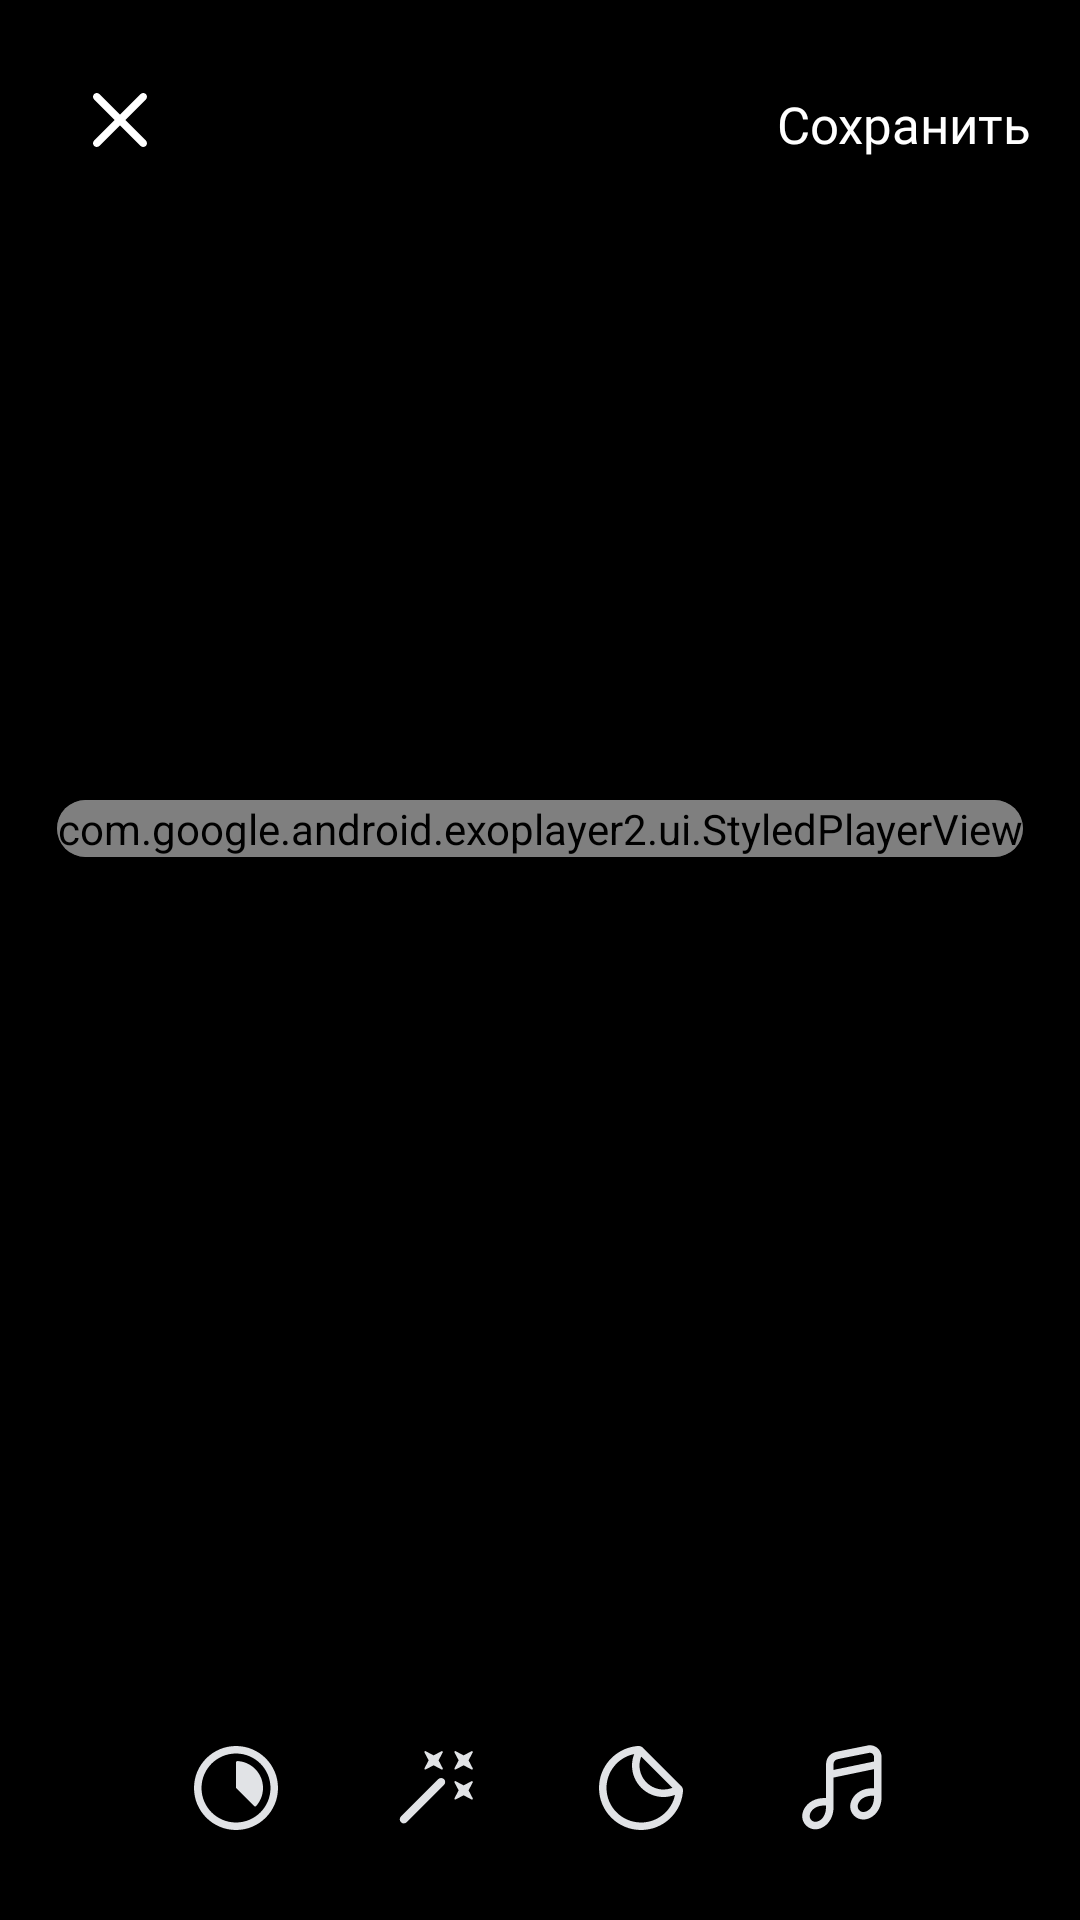

Icons on this 1080×1920 Android screen, each with the point to tap as (x=x, y=y):
editor close: (x=120, y=120)
editor effects: (x=436, y=1787)
editor music: (x=842, y=1787)
editor stickers: (x=641, y=1788)
editor times: (x=236, y=1788)
